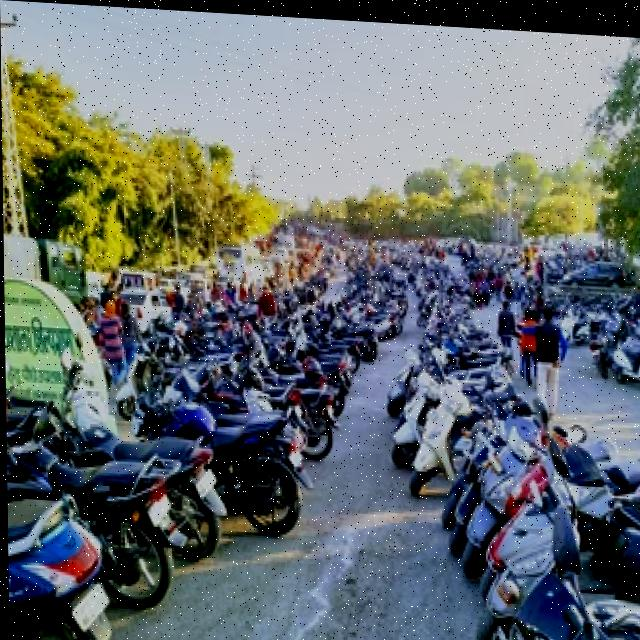plate: (66, 576, 117, 635), (143, 487, 169, 526), (195, 459, 219, 496), (287, 442, 305, 465)
